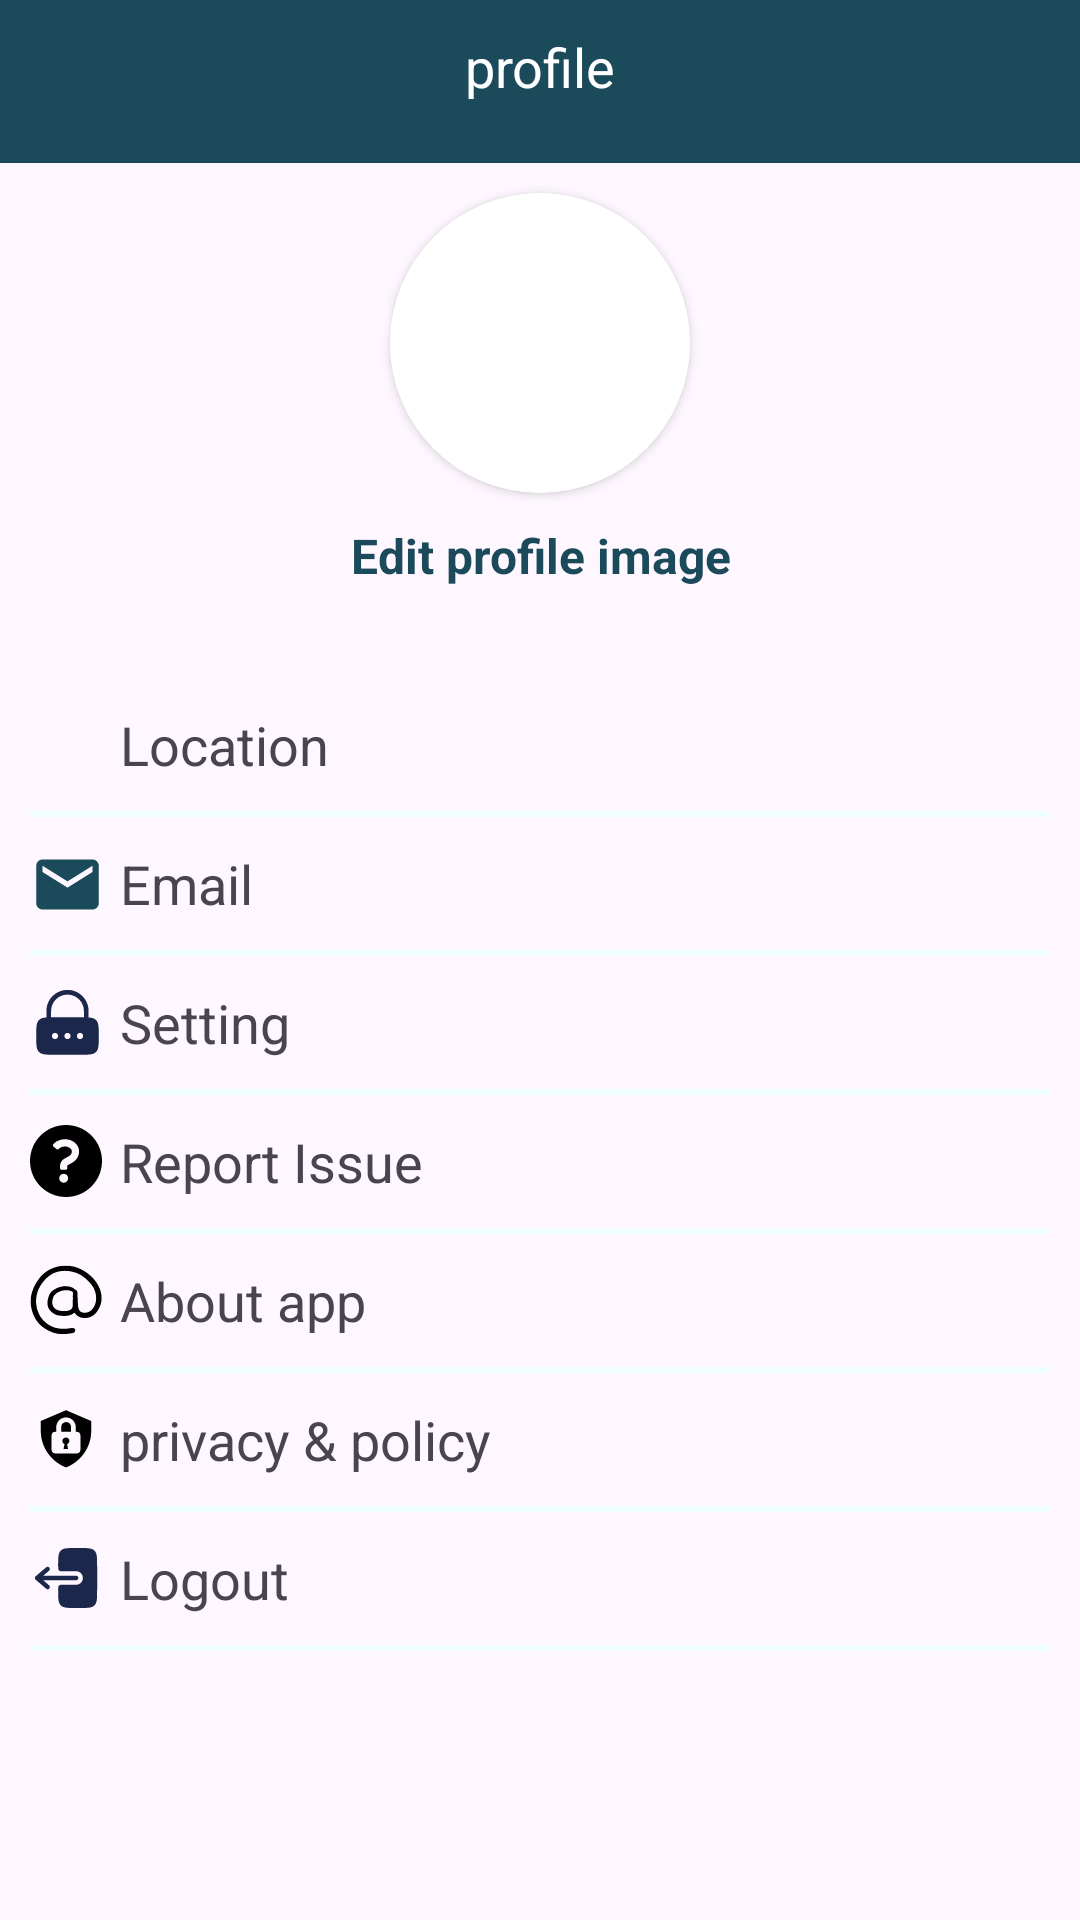

Screen size 1080x1920. Icon name, then its center in pixels as (x=x, y=y):
attherate: (x=66, y=1299)
lock password: (x=67, y=1022)
privacylocked: (x=66, y=1439)
questionmark: (x=66, y=1161)
